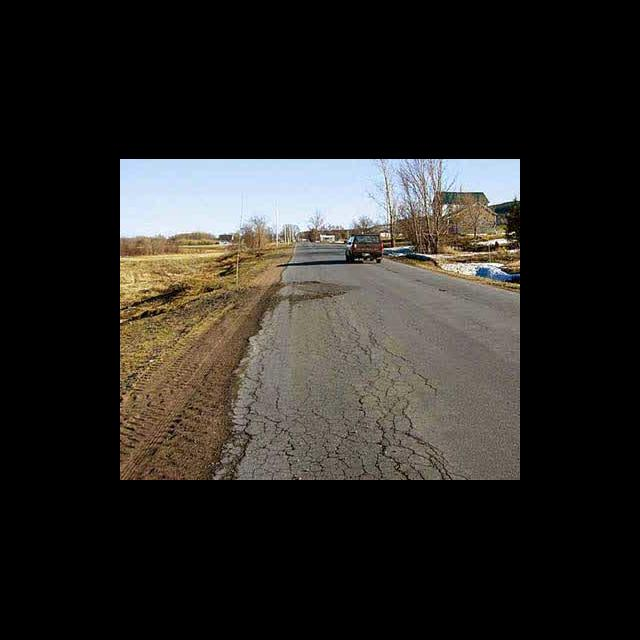lubang_kecil: (281, 276, 344, 308)
retak_kulit_buaya: (319, 324, 430, 481), (257, 380, 346, 479)
